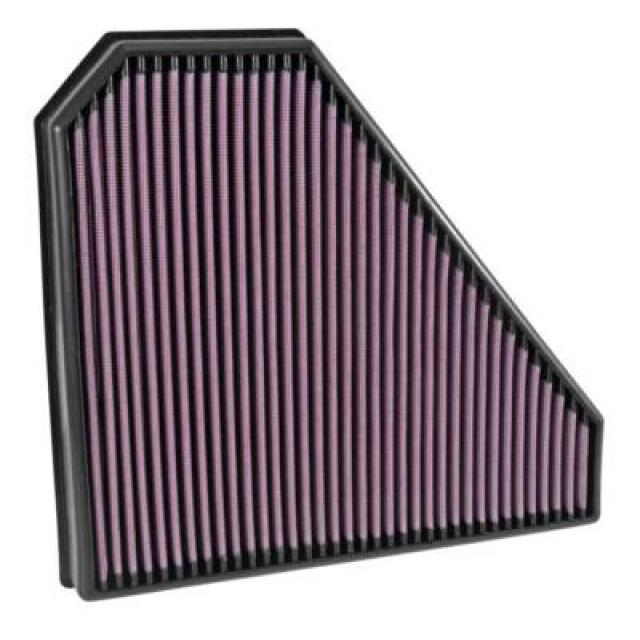air_filter: (20, 26, 612, 580)
